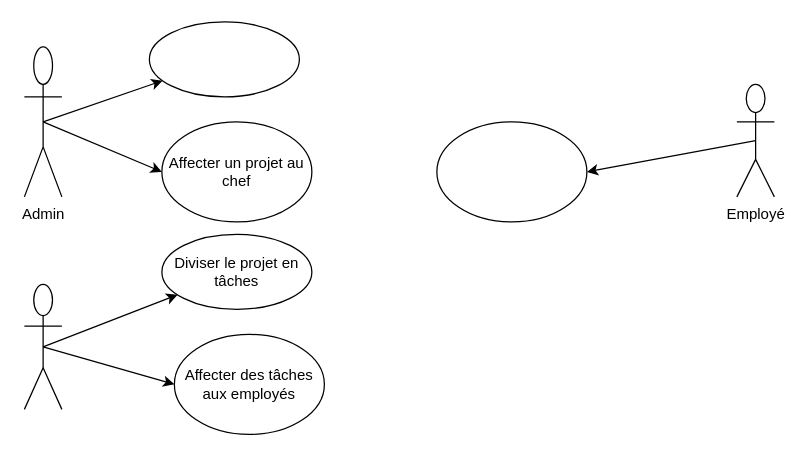
The diagram is 806 pixels wide and 458 high, and some of its shapes have lost their labels. Here are the shapes that lost their labels. From the top down, the centre of each, then its label:
At (223,59): "Créer un projet".
At (511,171): "Mettre à jour l'état des tâches".
At (42,346): "Chef".
